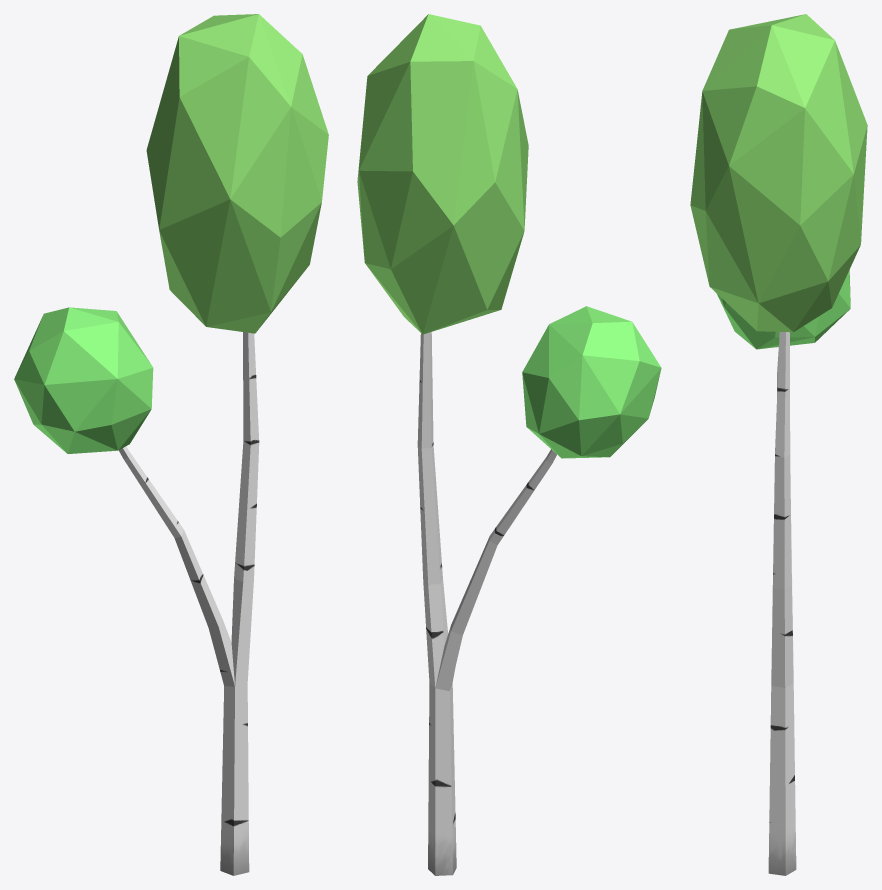
File: Birch_Tree_m_BT_04.fbx
3 renders of one model, left to right at view 1: azimuth 30°, elevation 25°; view 2: azimuth 150°, elevation 25°; view 3: azimuth 270°, elevation 25°, orthographic.
Parts seen in each view (by area): view 1: Birch_Tree_m_BT_04; view 2: Birch_Tree_m_BT_04; view 3: Birch_Tree_m_BT_04.
Boxes of the visible parts, left/top/right/bottom form: Birch_Tree_m_BT_04: left=14, top=14, right=328, bottom=875; Birch_Tree_m_BT_04: left=357, top=14, right=661, bottom=875; Birch_Tree_m_BT_04: left=690, top=14, right=867, bottom=875.
Bounding box in the file's own units: 265 × 767 × 144.
